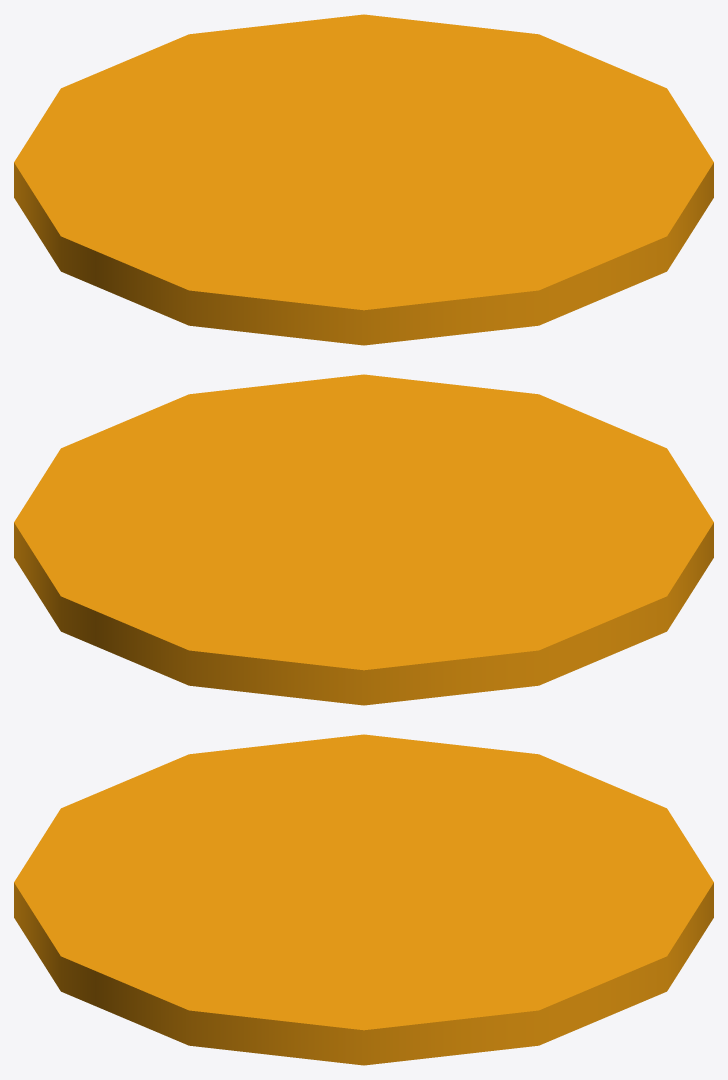
File: GoldCoin.FBX
The picture shows the model from 3 angles, top to bottom: view 1: azimuth 30°, elevation 25°; view 2: azimuth 150°, elevation 25°; view 3: azimuth 270°, elevation 25°; orthographic projection.
Visible parts, largest first — view 1: Coin; view 2: Coin; view 3: Coin.
Boxes of the visible parts, x1,y1,x2,y2 form: Coin: (14,14,713,345); Coin: (14,374,713,705); Coin: (14,734,713,1065).
Bounding box in the file's own units: 0.7087 × 0.0394 × 0.7087.
